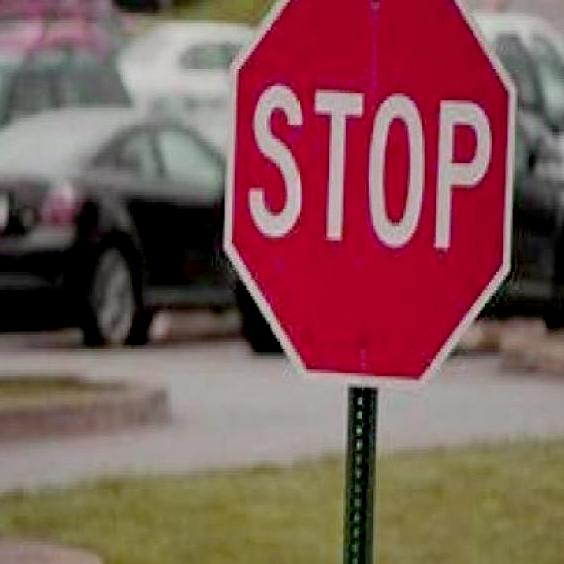stop_sign: (223, 0, 520, 384)
